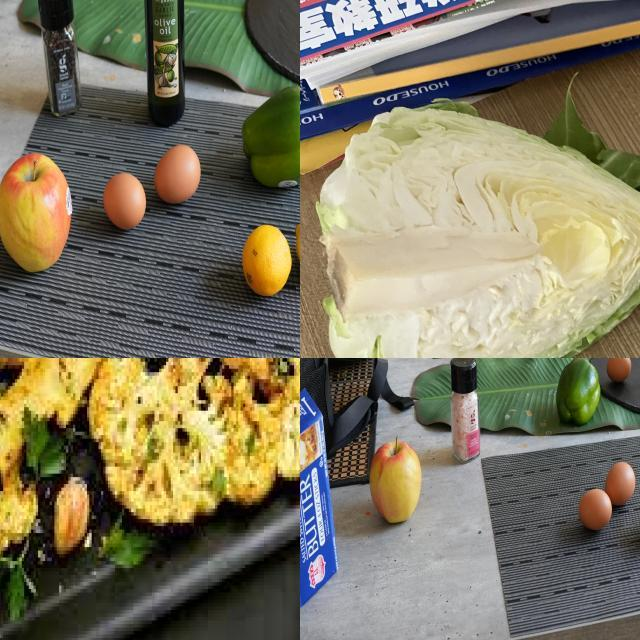bell_pepper: (236, 77, 301, 201), (28, 1, 89, 122), (554, 359, 605, 429)
cabbage: (310, 72, 640, 359)
egg: (152, 141, 216, 223), (97, 169, 156, 243), (578, 489, 610, 533), (608, 461, 635, 506), (606, 359, 630, 387)
